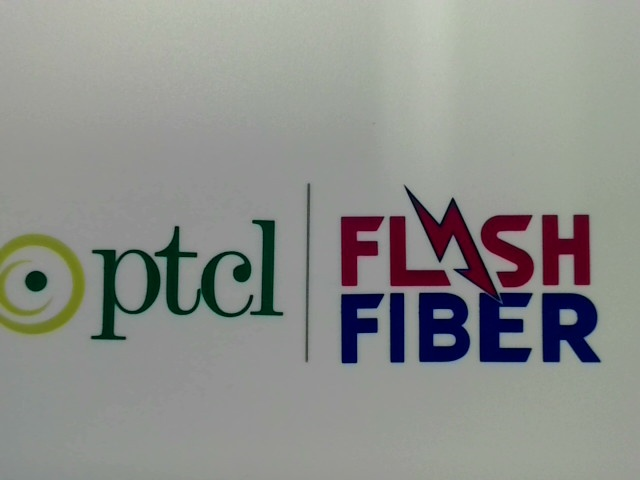BF_PTCL: (2, 226, 293, 349)
